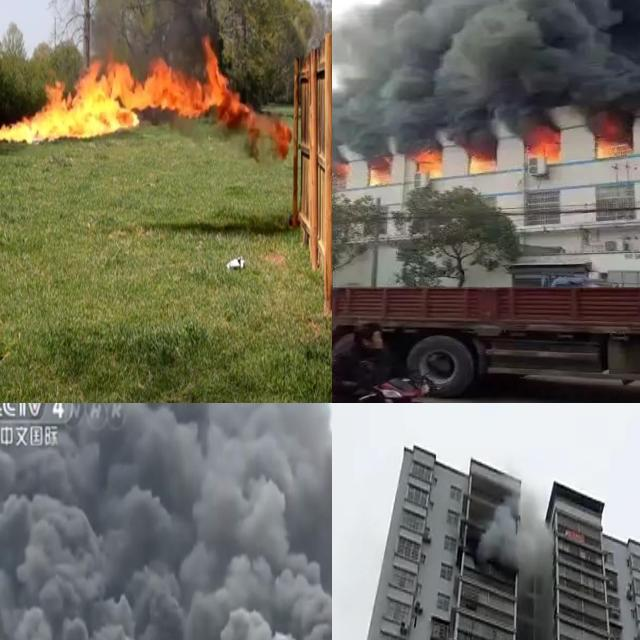fire: (0, 36, 262, 162), (593, 120, 627, 158), (526, 126, 562, 161), (413, 147, 443, 178), (367, 155, 393, 184), (465, 148, 496, 172)
smoke: (0, 403, 332, 640), (332, 0, 640, 146), (478, 488, 556, 585), (167, 0, 211, 59)
